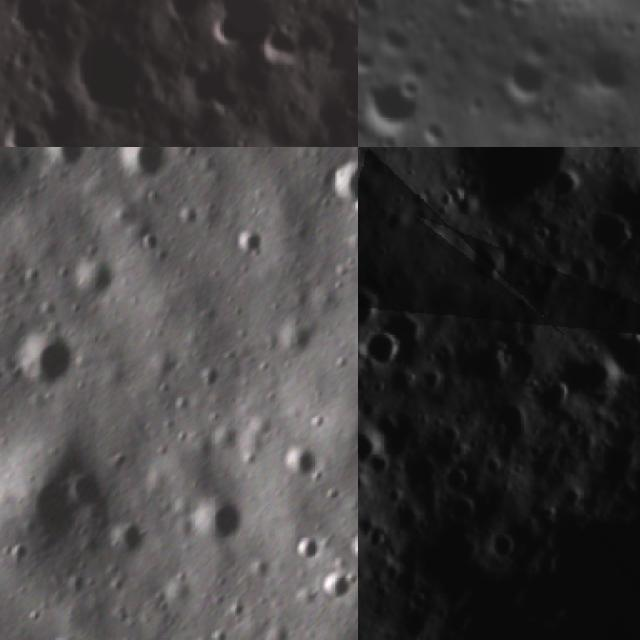crater: (411, 147, 609, 250), (69, 32, 149, 122), (563, 185, 640, 276), (358, 56, 430, 143), (571, 34, 638, 106), (589, 304, 640, 395), (488, 43, 556, 110), (358, 315, 415, 384), (13, 334, 76, 396), (521, 364, 582, 426), (358, 260, 399, 337), (358, 404, 400, 473), (314, 153, 358, 216), (186, 505, 244, 548), (256, 19, 299, 71), (107, 147, 176, 179), (63, 474, 102, 515), (65, 257, 106, 296), (390, 69, 428, 107), (0, 109, 37, 147), (234, 227, 268, 268), (316, 572, 354, 608), (130, 227, 166, 263), (203, 15, 248, 42), (35, 147, 84, 171), (0, 0, 42, 26), (283, 444, 316, 476), (294, 532, 320, 571), (358, 0, 384, 26), (347, 532, 358, 563)
